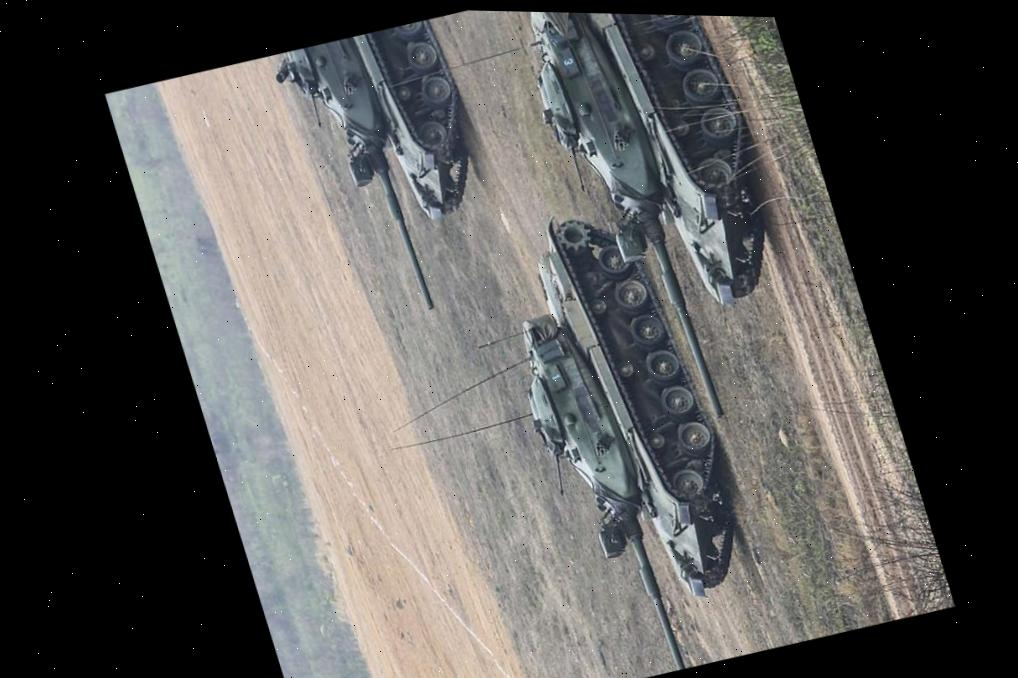tank: (471, 188, 788, 678), (505, 11, 836, 441), (271, 12, 510, 268)
